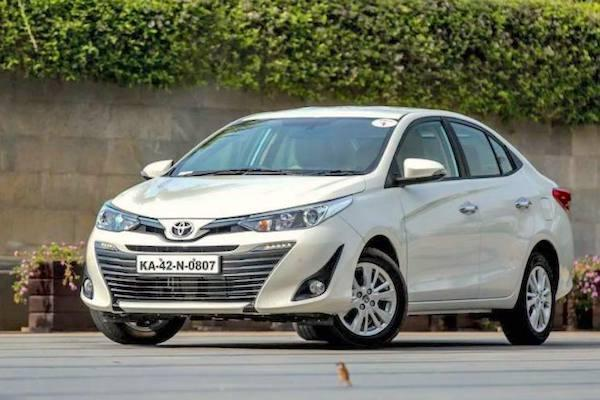windshield: (164, 113, 409, 183)
